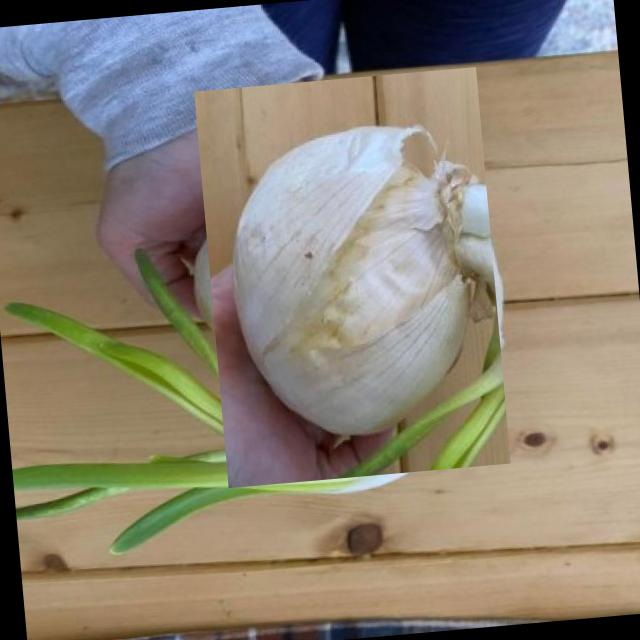Onion: (167, 92, 536, 462)
